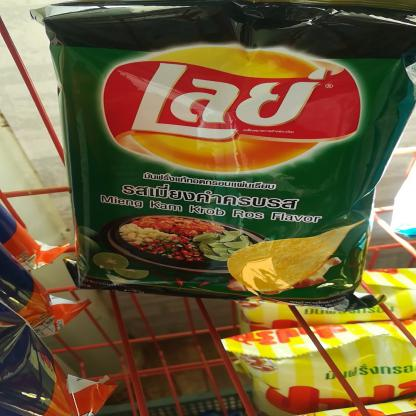potatochip: (33, 1, 416, 314)
